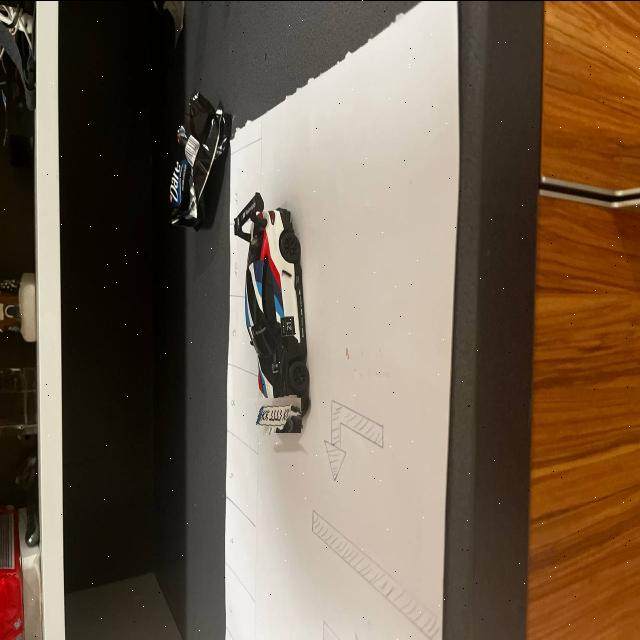KX 7777 KX: (249, 401, 300, 429)
